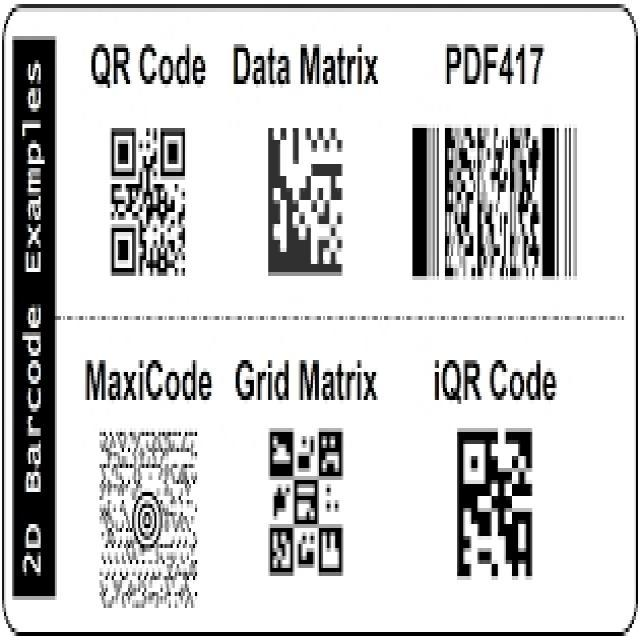Data-Matrix: (264, 116, 348, 284)
